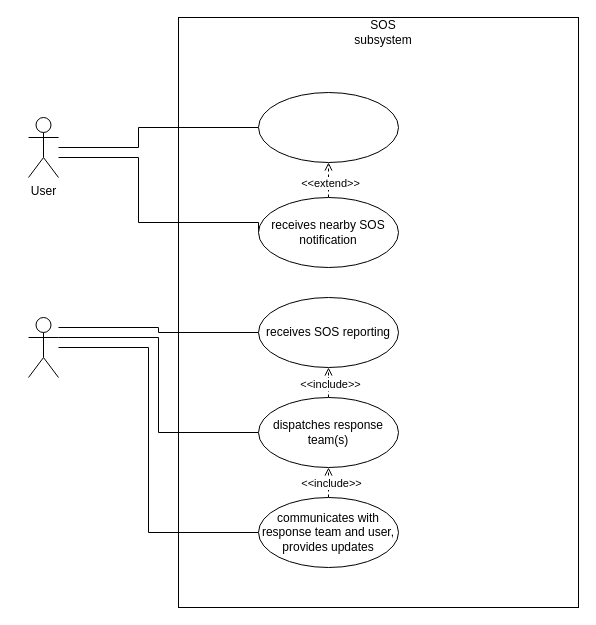
Image size: 596x625. Some labels were removed from this diagram. Each missing label, with the centre of its shape:
"ER admin" goes at (43,347).
"sends SOS, allow for location sharing" goes at (328,127).
